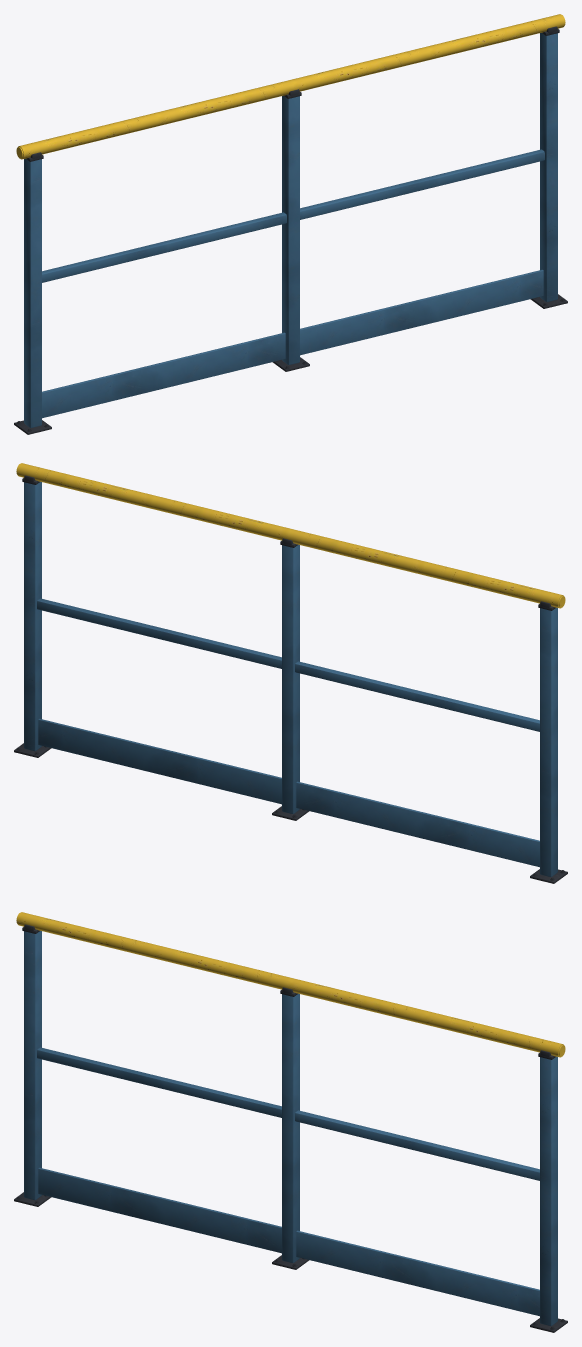
The model's file is metal_railing_long.glb.
3 renders of one model, top to bottom at view 1: azimuth 30°, elevation 25°; view 2: azimuth 150°, elevation 25°; view 3: azimuth 330°, elevation 25°, orthographic.
Visible parts, largest first — view 1: MetalRailingLongMesh; view 2: MetalRailingLongMesh; view 3: MetalRailingLongMesh.
Boxes of the visible parts, x1,y1,x2,y2 form: MetalRailingLongMesh: (14,14,567,434); MetalRailingLongMesh: (14,463,567,883); MetalRailingLongMesh: (14,912,567,1332).
Size of the model in its own units: 2 by 0.998 by 0.09.
Materials: 3 (3 with a texture image).
